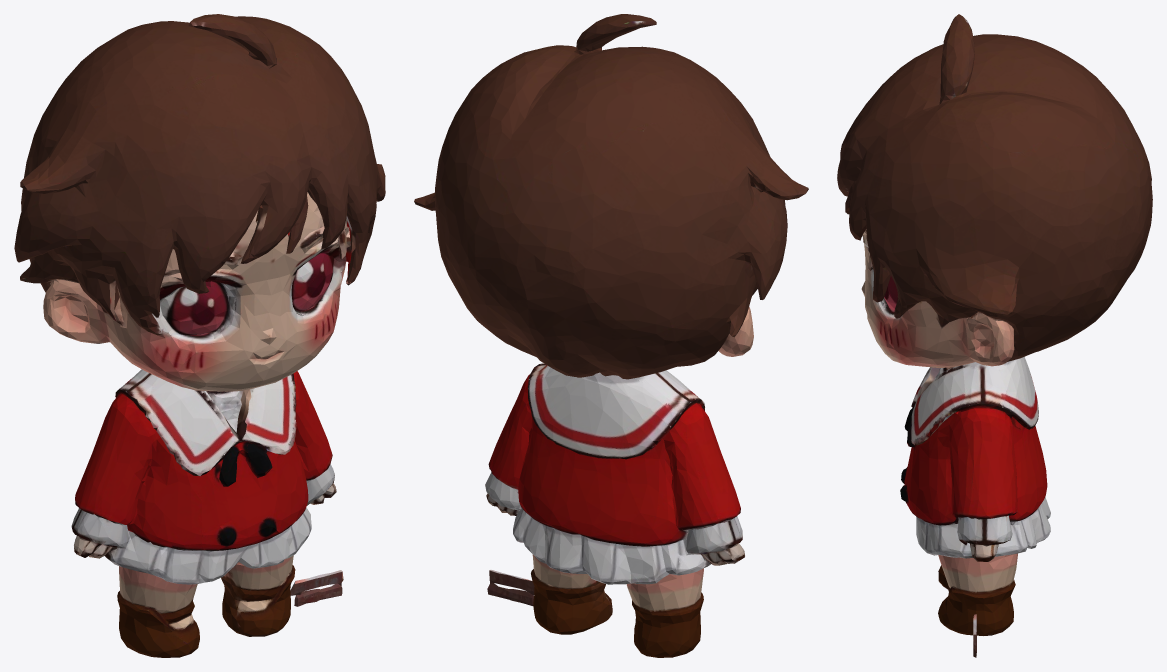
The model's file is Hy21_Glass_Mesh.glb.
3 views of the same model, side by side, from view 1: azimuth 30°, elevation 25°; view 2: azimuth 150°, elevation 25°; view 3: azimuth 270°, elevation 25° (orthographic). The views are drawn at different scales.
Parts seen in each view (by area): view 1: Hy21_Glass_Mesh.obj; view 2: Hy21_Glass_Mesh.obj; view 3: Hy21_Glass_Mesh.obj.
Boxes of the visible parts, x1,y1,x2,y2 form: Hy21_Glass_Mesh.obj: [14, 14, 385, 657]; Hy21_Glass_Mesh.obj: [414, 14, 808, 657]; Hy21_Glass_Mesh.obj: [837, 14, 1152, 657].
Size of the model in its own units: 1.25 by 1.96 by 0.9696.
Materials: 1 (1 with a texture image).
